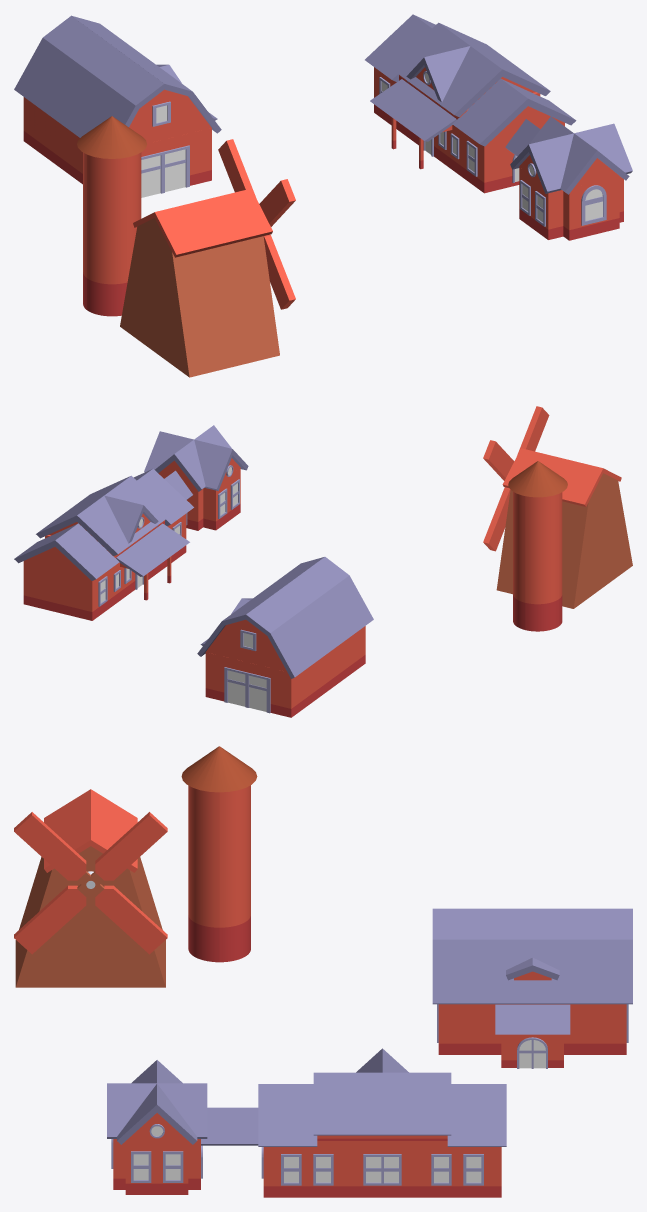
The model's file is Buildings.fbx.
The picture shows the model from 3 angles, top to bottom: view 1: azimuth 30°, elevation 25°; view 2: azimuth 150°, elevation 25°; view 3: azimuth 270°, elevation 25°; orthographic projection. The views are drawn at different scales.
Visible parts, largest first — view 1: building_windmill, roof (×10), roof_barnHalf (×5), block (×4), block_corner_round_large (×3), building_windmillWicks, roof_half, door_wide, cone, window_rounded, window_double; view 2: roof (×8), block (×4), roof_barnHalf (×5), building_windmill, block_corner_round_large (×3), building_windmillWicks, roof_half, door_wide, cone, window_double; view 3: roof (×10), block (×6), roof_barnHalf (×4), building_windmill, block_corner_round_large (×2), building_windmillWicks, window_double (×3), roof_half, cone, window_wide, roof_halfDormer, door_rounded_wide.
Part boxes in pixels (<box>): building_windmill: <box>120,188,279,377</box>; roof (×10): <box>365,14,632,194</box>; roof_barnHalf (×5): <box>14,15,221,143</box>; block (×4): <box>23,67,623,240</box>; block_corner_round_large (×3): <box>83,152,141,316</box>; building_windmillWicks: <box>218,139,295,309</box>; roof_half: <box>370,79,456,141</box>; door_wide: <box>141,145,189,197</box>; cone: <box>77,116,146,158</box>; window_rounded: <box>581,185,606,225</box>; window_double: <box>520,180,545,226</box>; roof (×8): <box>14,431,248,580</box>; block (×4): <box>23,468,365,717</box>; roof_barnHalf (×5): <box>197,557,373,678</box>; building_windmill: <box>496,448,632,608</box>; block_corner_round_large (×3): <box>513,492,562,631</box>; building_windmillWicks: <box>483,406,549,551</box>; roof_half: <box>116,523,189,576</box>; door_wide: <box>224,667,270,713</box>; cone: <box>508,461,567,497</box>; window_double: <box>218,479,239,518</box>; roof (×10): <box>107,1048,506,1146</box>; block (×6): <box>113,1004,626,1197</box>; roof_barnHalf (×4): <box>432,908,632,1004</box>; building_windmill: <box>15,789,165,987</box>; block_corner_round_large (×2): <box>188,785,250,962</box>; building_windmillWicks: <box>14,812,167,954</box>; window_double (×3): <box>131,1151,483,1185</box>; roof_half: <box>495,1004,570,1034</box>; cone: <box>181,746,257,792</box>; window_wide: <box>363,1154,401,1185</box>; roof_halfDormer: <box>506,957,559,980</box>; door_rounded_wide: <box>517,1037,547,1068</box>.
Bounding box in the file's own units: 102 × 35.7 × 98.87.
